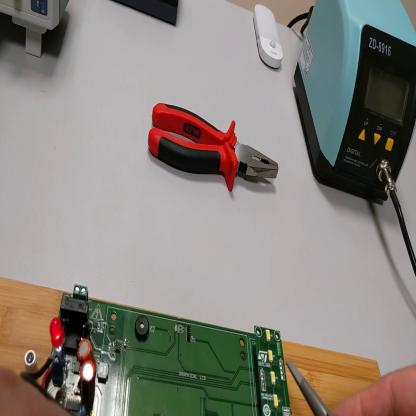hand: (327, 365, 416, 415), (2, 359, 71, 415)
low voltage board: (22, 285, 293, 416)
oscilloscope: (2, 1, 75, 60)
oscilloscope probe tip: (287, 361, 330, 416)
pliers: (145, 99, 280, 194)
welder station: (295, 1, 416, 207)
working area: (2, 278, 385, 414)
